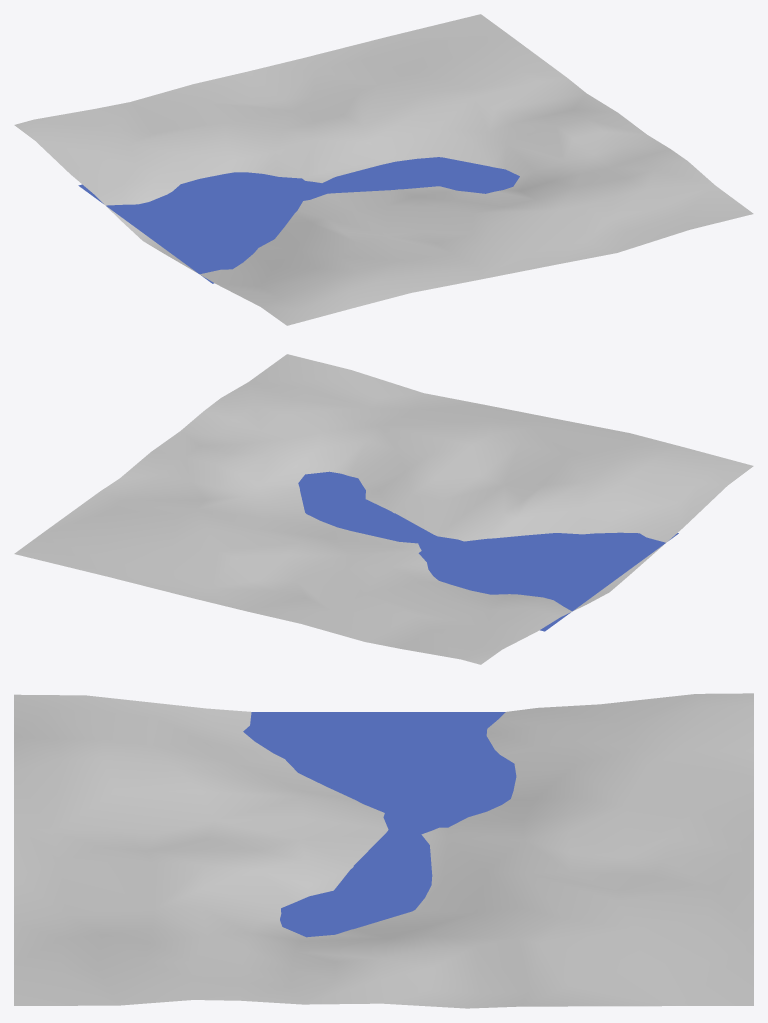
File: Snow_plane.1.fbx
The picture shows the model from 3 angles, top to bottom: view 1: azimuth 30°, elevation 25°; view 2: azimuth 150°, elevation 25°; view 3: azimuth 270°, elevation 25°; orthographic projection. The views are drawn at different scales.
Visible parts, largest first — view 1: Snow_plane.001; view 2: Snow_plane.001; view 3: Snow_plane.001.
Boxes of the visible parts, x1,y1,x2,y2 form: Snow_plane.001: [14, 14, 753, 325]; Snow_plane.001: [14, 354, 753, 664]; Snow_plane.001: [14, 693, 753, 1008].
Size of the model in its own units: 2270 by 2300 by 133.
